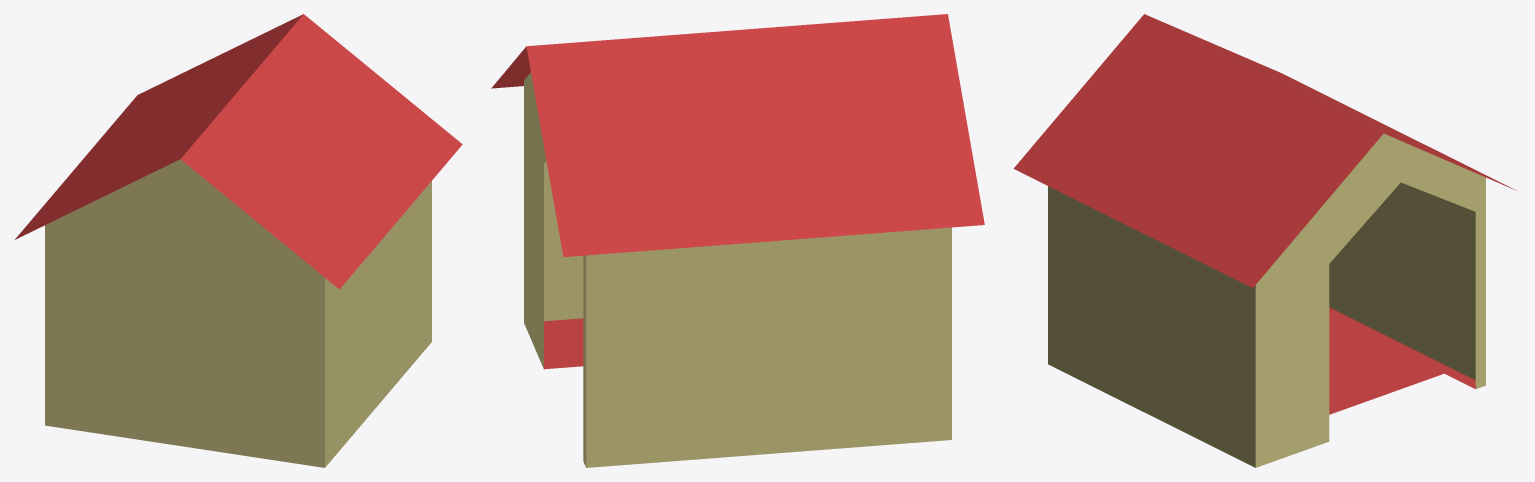
3 renders of one model, left to right at view 1: azimuth 30°, elevation 25°; view 2: azimuth 150°, elevation 25°; view 3: azimuth 270°, elevation 25°, orthographic. The views are drawn at different scales.
Size of the model in its own units: 15.61 by 15.54 by 10.22.
